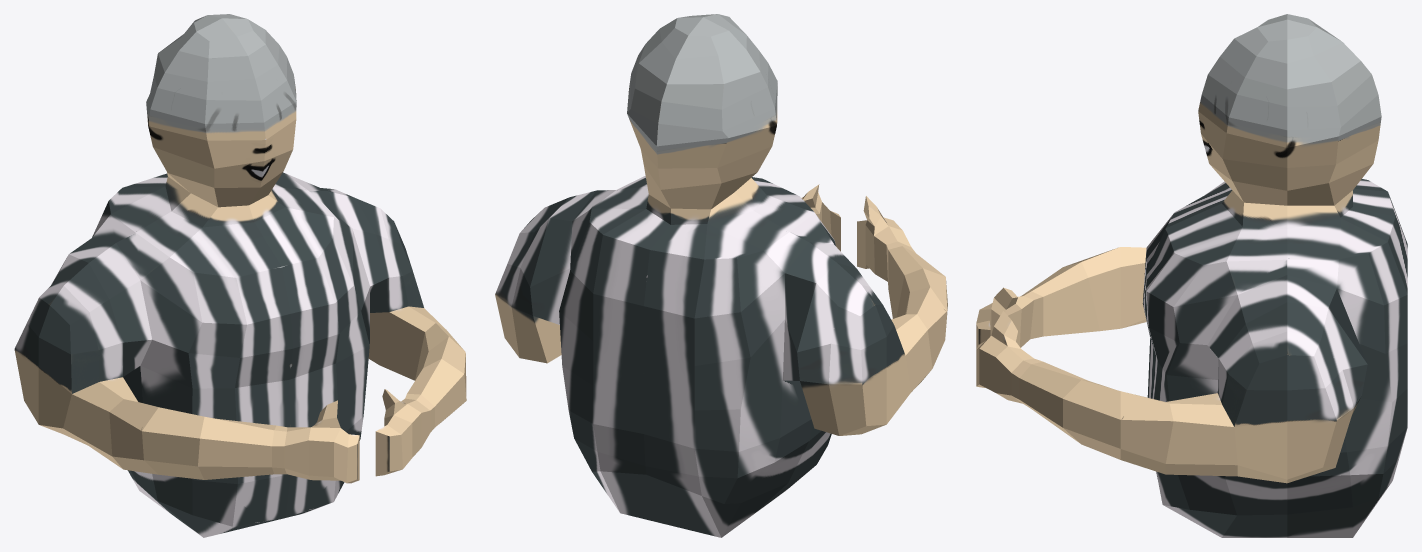
File: PlayerCharacter.fbx
3 views of the same model, side by side, from view 1: azimuth 30°, elevation 25°; view 2: azimuth 150°, elevation 25°; view 3: azimuth 270°, elevation 25° (orthographic).
Parts seen in each view (by area): view 1: PlayerCharacter; view 2: PlayerCharacter; view 3: PlayerCharacter.
Boxes of the visible parts, bbox=[...] form: PlayerCharacter: bbox=[14, 14, 466, 537]; PlayerCharacter: bbox=[495, 14, 947, 537]; PlayerCharacter: bbox=[976, 14, 1407, 537].
Size of the model in its own units: 346 by 436 by 346.
